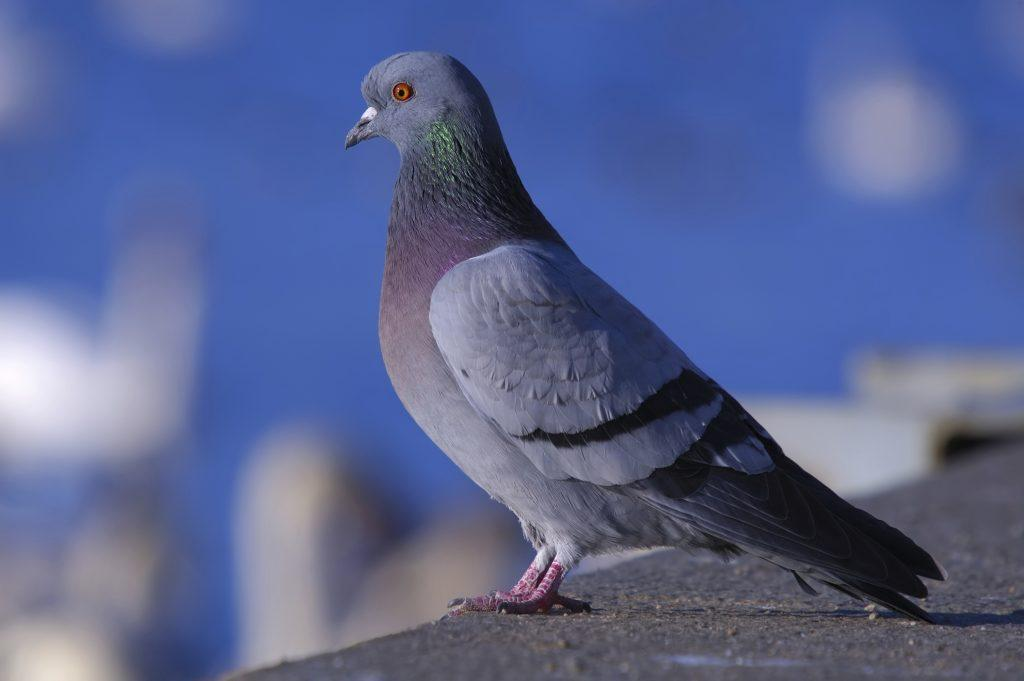Flying Rat: (339, 53, 968, 624)
